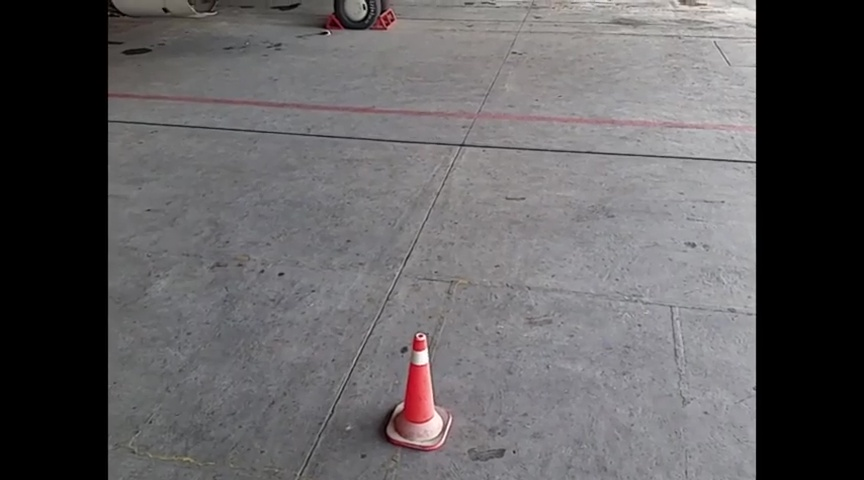safety_cone: (379, 331, 455, 452)
